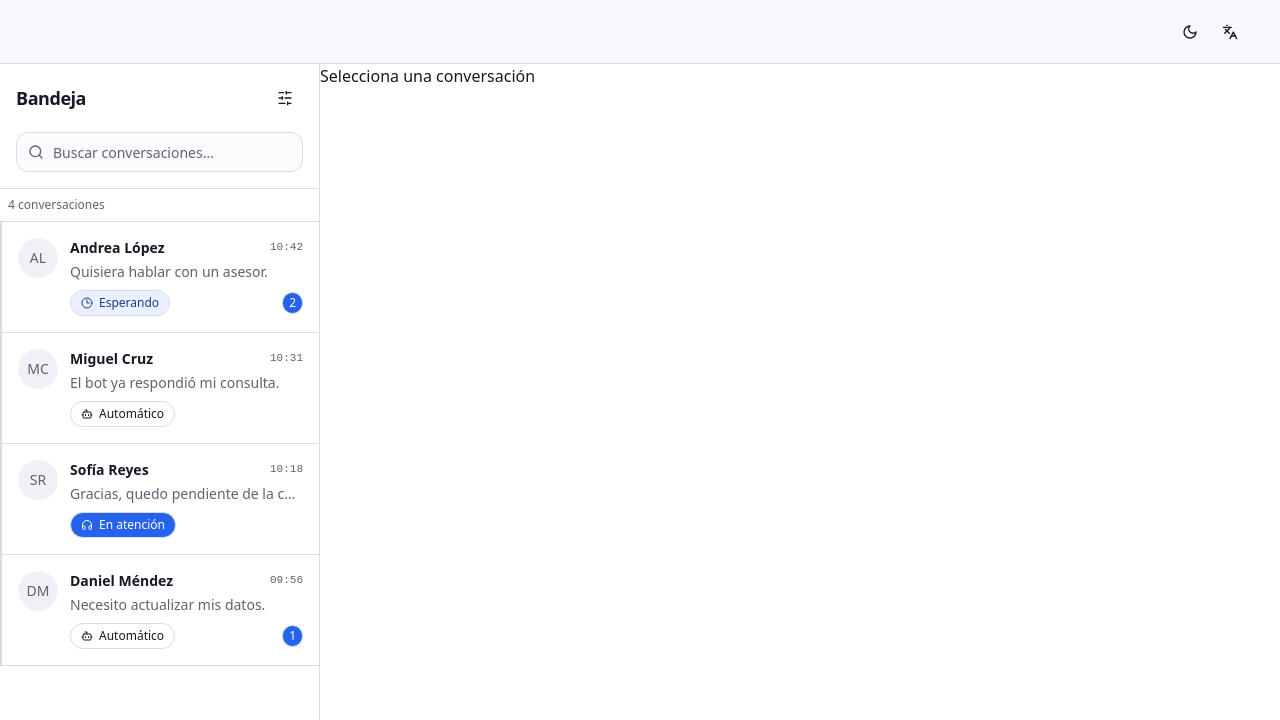
Scenario: filtrar pendientes y seleccionar un chat conserva la búsqueda en la URL
Click the button named "Mostrar solo conversaciones pendientes" at (285, 98), box [267, 80, 303, 116]
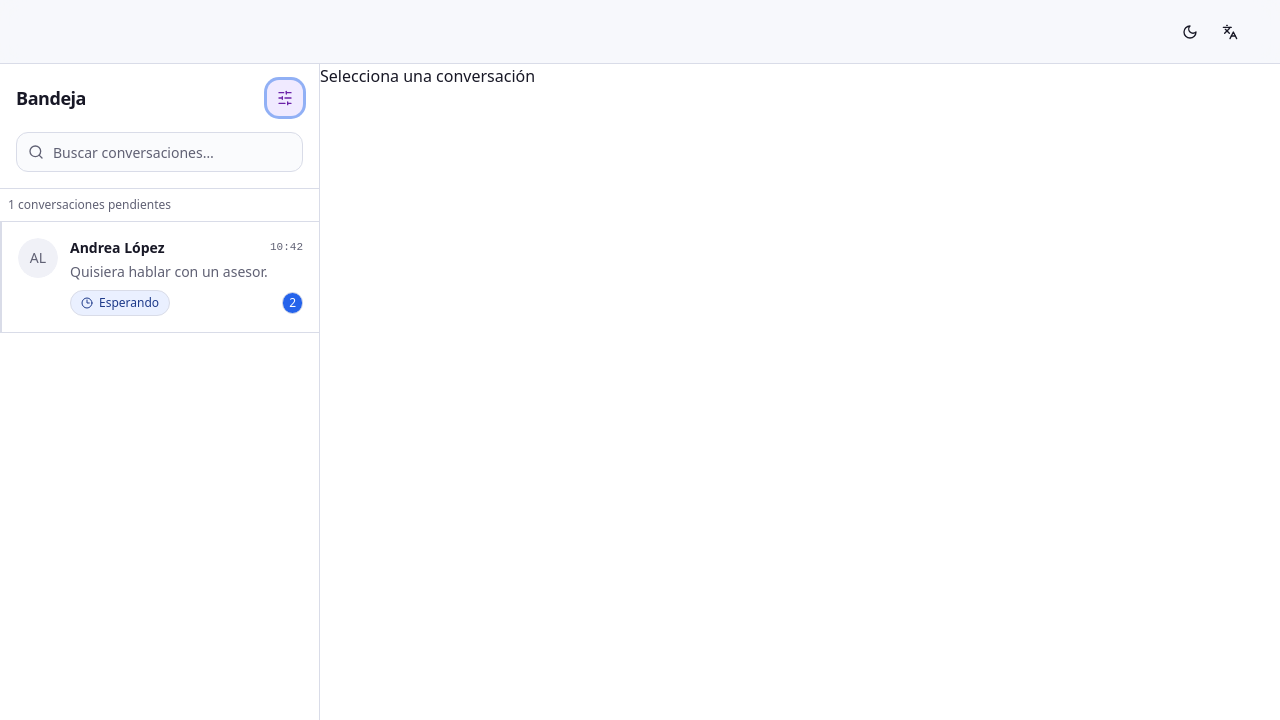
expect the link "Miguel Cruz" is gone: met
Type "Andrea" into the field labelled "Buscar conversaciones" at (160, 152), box [16, 132, 303, 172]
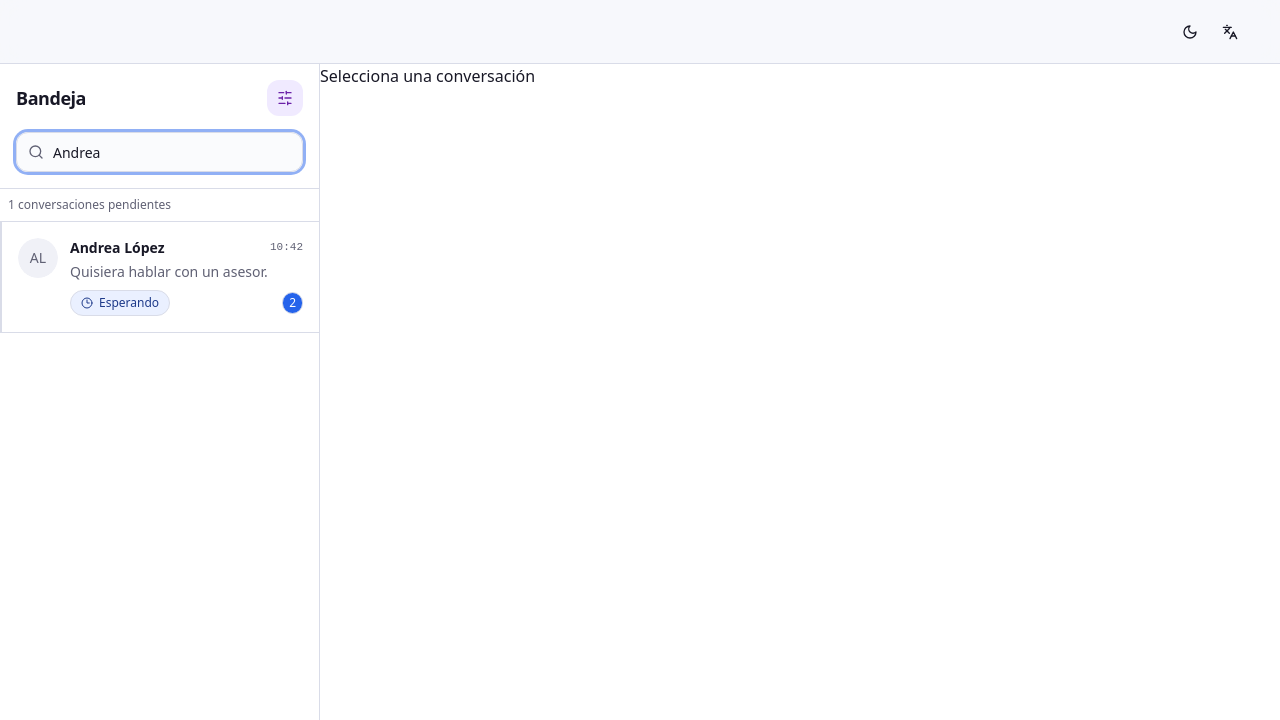
Click the link "Andrea López" at (160, 278), box [0, 222, 319, 333]
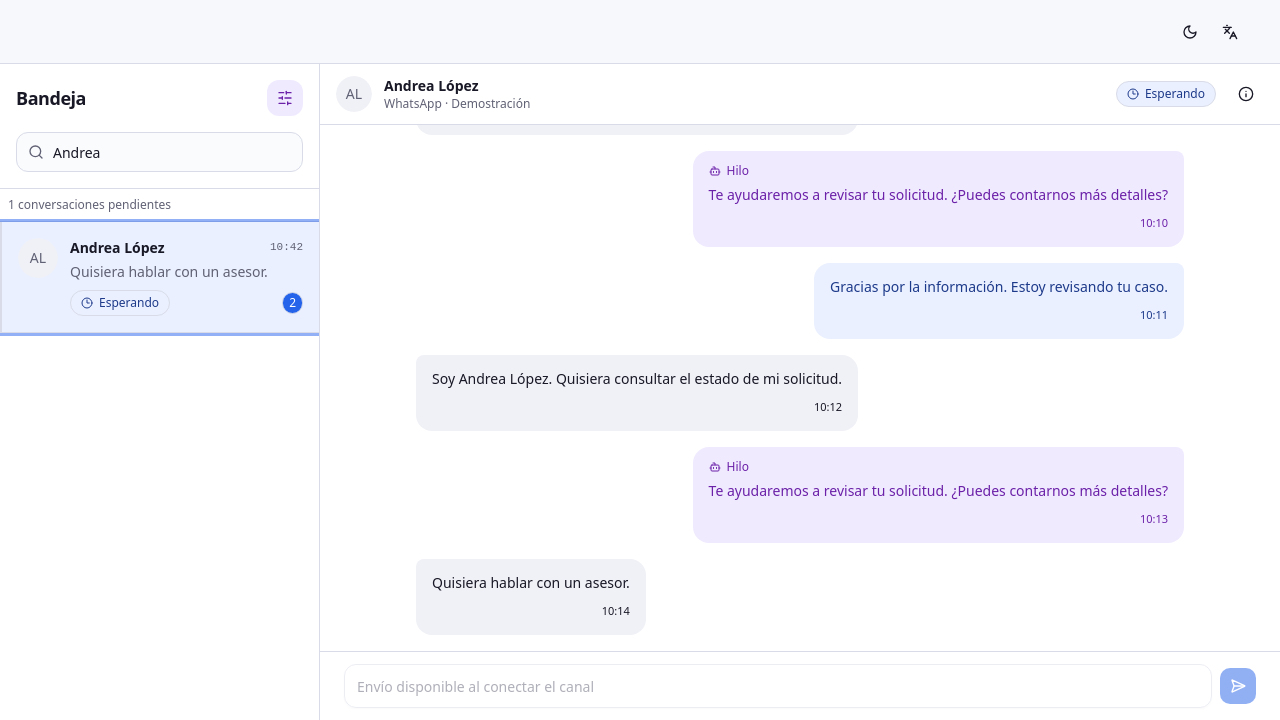
expect the heading "Andrea López" is shown: met, box [384, 76, 479, 95]
